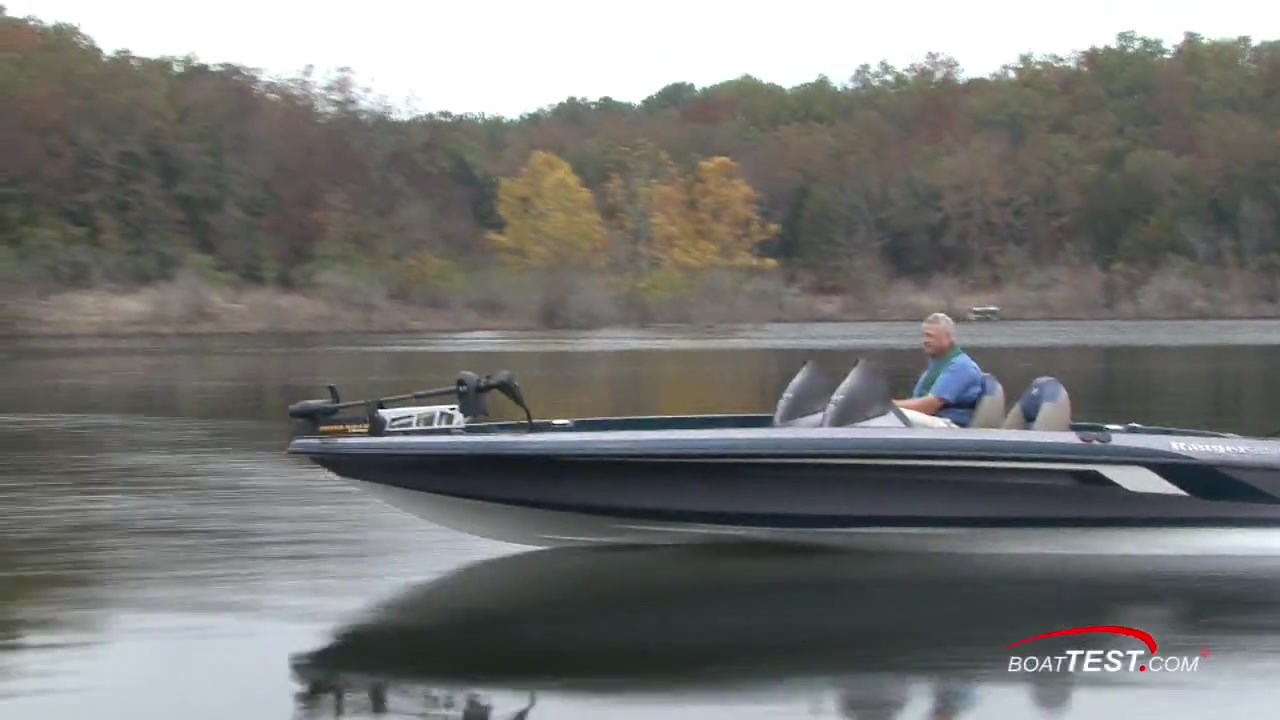boat: (286, 362, 1280, 541)
